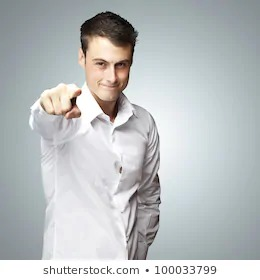F_shirt: (23, 85, 164, 258)
